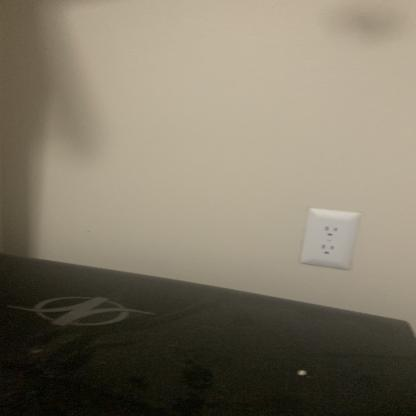OUTLET: (303, 207, 356, 268)
